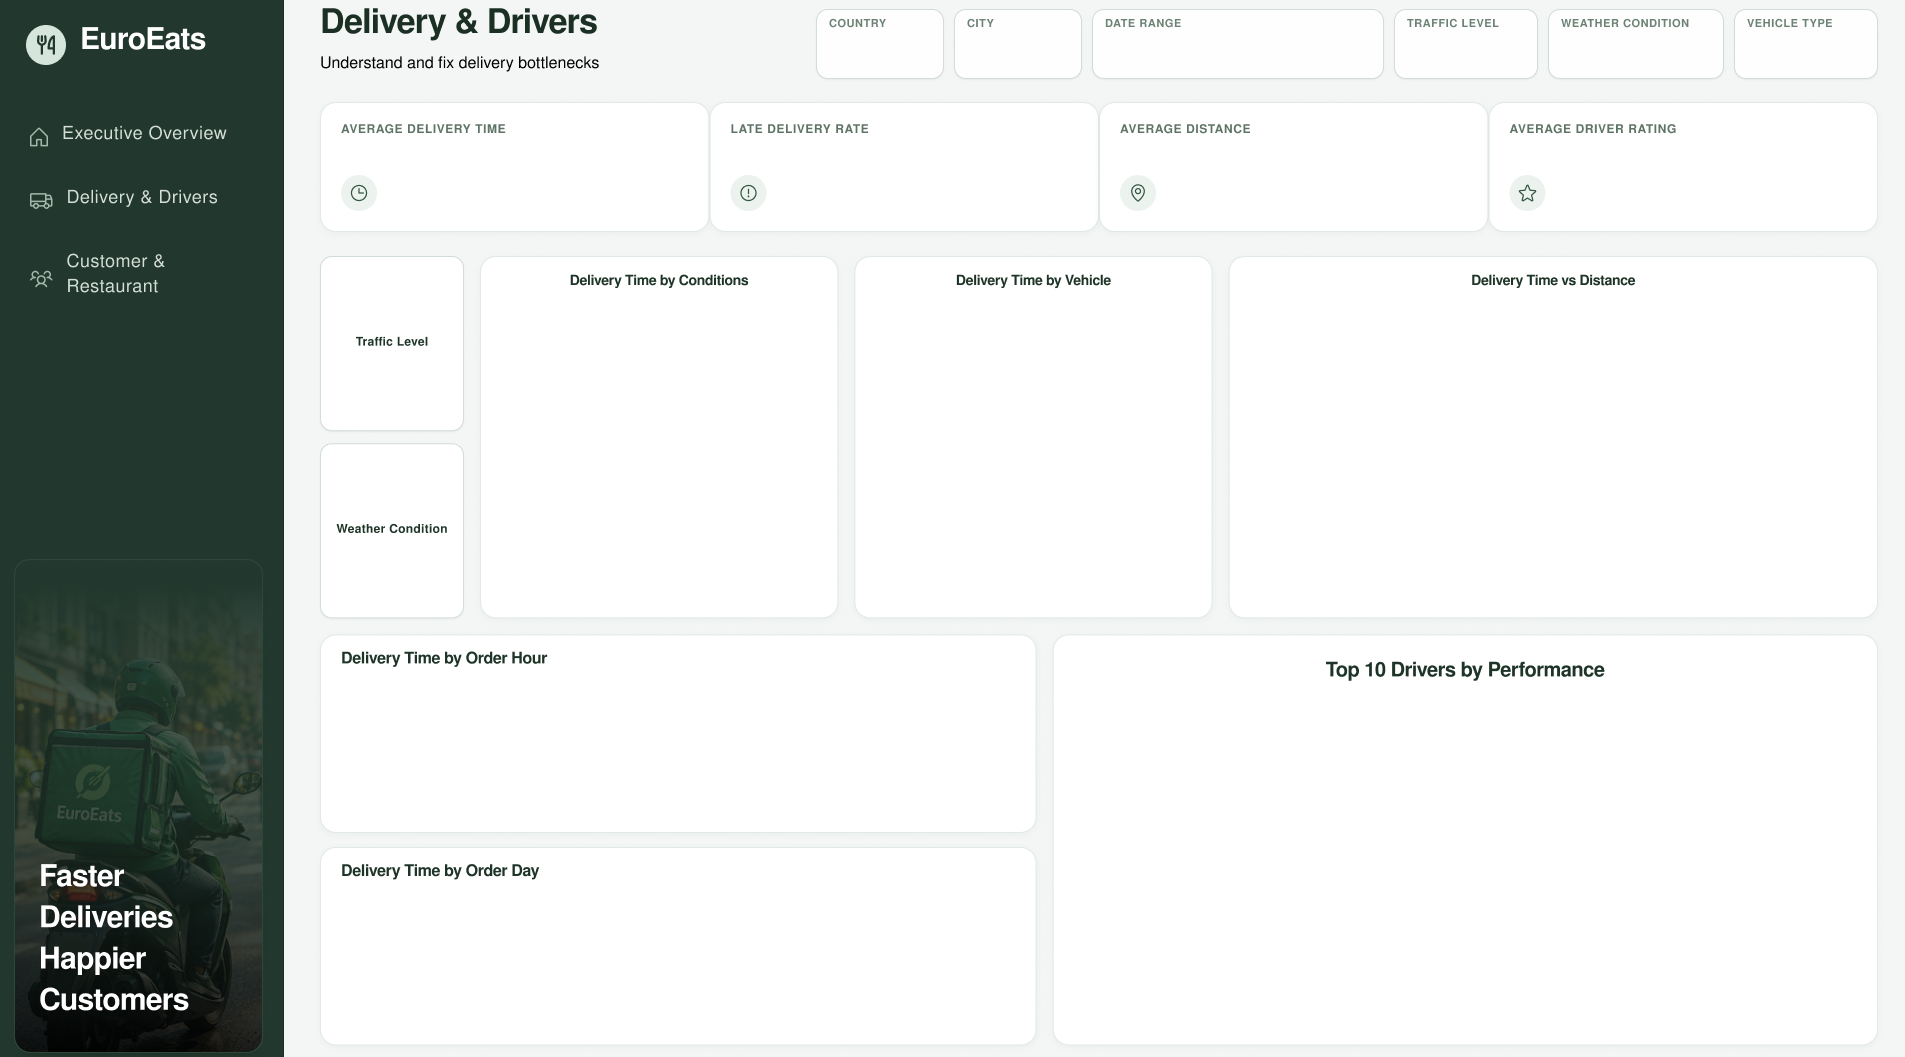

The page's visual inventory and layout, read from the dashboard file:
{"tool":"powerbi","page":{"name":"Delivery & Driver Performance","canvas":[1920,1080],"ordinal":1},"visuals":[{"type":"slicer","title":"Date Range","fields":{"Values":["Date.Date"]},"box":[1090,28,310,68],"z":0},{"type":"slicer","title":"Country","fields":{"Values":["restaurants.Cuisine Type"]},"box":[820,28,140,70],"z":1000},{"type":"slicer","title":"City","fields":{"Values":["drivers.city"]},"box":[960,28,130,56],"z":2000},{"type":"slicer","title":"Weather Condition","fields":{"Values":["deliveries.weather_condition"]},"box":[1552,28,180,56],"z":3000},{"type":"slicer","title":"Traffic Level","fields":{"Values":["deliveries.traffic_level"]},"box":[1400,26,152,58],"z":4000},{"type":"slicer","title":"Vehicle Type","fields":{"Values":["drivers.vehicle_type"]},"box":[1732,28,156,56],"z":5000},{"type":"cardVisual","title":"Average Delivery Time","fields":{"Data":["Measure.Average Delivery Time"]},"box":[328,120,380,116],"z":6000},{"type":"cardVisual","title":"Average Distance","fields":{"Data":["Measure.Average Distance"]},"box":[1100,120,392,116],"z":7000},{"type":"cardVisual","title":"Late Delivery Rate","fields":{"Data":["Measure.Late Deliveries Rate"]},"box":[708,120,396,116],"z":8000},{"type":"cardVisual","title":"average driver rating","fields":{"Data":["Measure.Average Driver Rating"]},"box":[1496,120,392,116],"z":9000},{"type":"advancedSlicerVisual","title":"Conditions","fields":{"Values":["Condition Parameter.Condition Parameter"]},"box":[328,262,144,368],"z":10000},{"type":"actionButton","box":[14,514,200,50],"z":11000},{"type":"clusteredColumnChart","title":"Delivery Time by Conditions","fields":{"Category":["deliveries.traffic_level","deliveries.weather_condition"],"Y":["Measure.Average Delivery Time"]},"box":[490,312,368,316],"z":12000},{"type":"clusteredBarChart","title":"Delivery Time by Vehicle","fields":{"Category":["drivers.vehicle_type"],"Y":["Sum(deliveries.actual_delivery_minutes)"]},"box":[858,296,388,330],"z":13000},{"type":"tableEx","title":"Top 10 Drivers by Performance","fields":{"Values":["drivers.Name","drivers.Experience (Years)","drivers.Rating","drivers.Orders Delivered"]},"box":[1066,700,822,350],"z":14000},{"type":"scatterChart","title":"Delivery Time vs Distance","fields":{"Series":["drivers.vehicle_type"],"X":["deliveries.distance_km"],"Y":["deliveries.actual_delivery_minutes"]},"box":[1246,298,642,328],"z":15000},{"type":"lineChart","title":"Delivery Time by Order Day","fields":{"Category":["orders.Order Day"],"Y":["Measure.Average Delivery Time"]},"box":[328,876,726,174],"z":16000},{"type":"lineChart","title":"Delivery Time by Order Hour","fields":{"Category":["orders.Order Hour"],"Y":["Measure.Average Delivery Time"]},"box":[328,666,726,190],"z":17000},{"type":"shape","box":[344,448,114,30],"z":18000},{"type":"pageNavigator","box":[14,110,264,202],"z":18001}]}

Visuals, with their boxes on the page's 1920x1080 design canvas (x1, y1, x2, y2). These are canvas units, not pixel positions in the 1905x1057 screenshot, which may show the page scaled, cropped or inside an application window:
"Date Range" slicer: (1090, 28, 1400, 96)
"Country" slicer: (820, 28, 960, 98)
"City" slicer: (960, 28, 1090, 84)
"Weather Condition" slicer: (1552, 28, 1732, 84)
"Traffic Level" slicer: (1400, 26, 1552, 84)
"Vehicle Type" slicer: (1732, 28, 1888, 84)
"Average Delivery Time" cardVisual: (328, 120, 708, 236)
"Average Distance" cardVisual: (1100, 120, 1492, 236)
"Late Delivery Rate" cardVisual: (708, 120, 1104, 236)
"average driver rating" cardVisual: (1496, 120, 1888, 236)
"Conditions" advancedSlicerVisual: (328, 262, 472, 630)
actionButton: (14, 514, 214, 564)
"Delivery Time by Conditions" clusteredColumnChart: (490, 312, 858, 628)
"Delivery Time by Vehicle" clusteredBarChart: (858, 296, 1246, 626)
"Top 10 Drivers by Performance" tableEx: (1066, 700, 1888, 1050)
"Delivery Time vs Distance" scatterChart: (1246, 298, 1888, 626)
"Delivery Time by Order Day" lineChart: (328, 876, 1054, 1050)
"Delivery Time by Order Hour" lineChart: (328, 666, 1054, 856)
shape: (344, 448, 458, 478)
pageNavigator: (14, 110, 278, 312)
